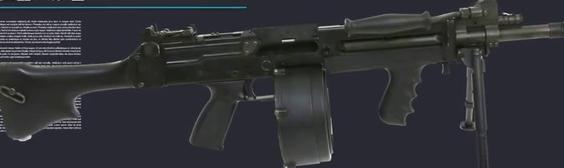gun: (1, 0, 564, 168)
